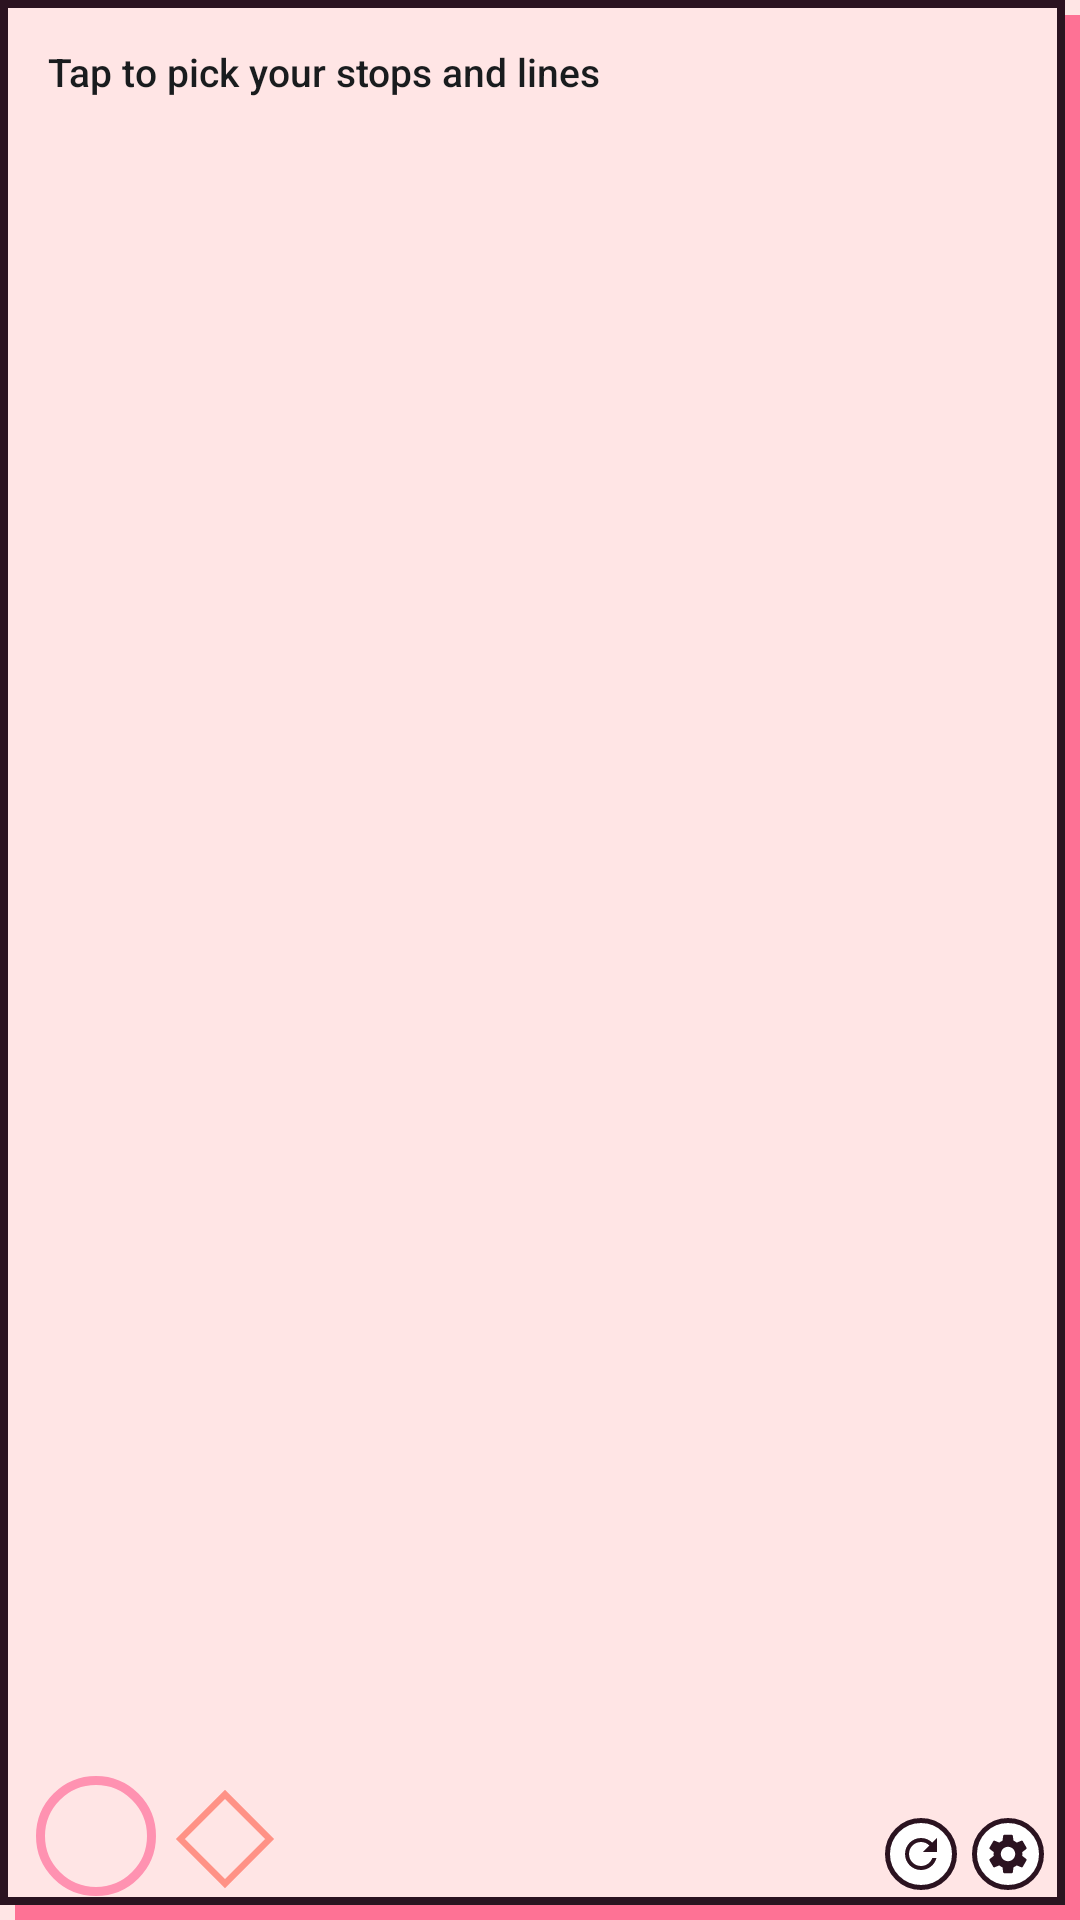

Icons on this 1080x1920 Android screen, each with its box as {"left": x1, "top": y1, "right": x2, "bottom": y2}:
Refresh: {"left": 885, "top": 1818, "right": 957, "bottom": 1890}
